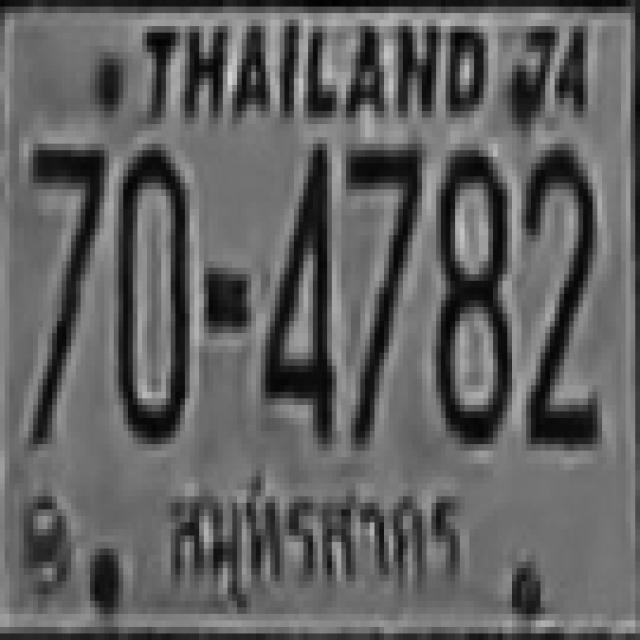0: (114, 144, 185, 438)
2: (522, 140, 592, 408)
4: (261, 137, 332, 438)
7: (29, 140, 104, 428), (344, 140, 419, 428), (29, 140, 104, 369), (344, 137, 419, 359), (29, 137, 104, 327), (344, 137, 419, 320)
8: (432, 144, 508, 438)
SamutSakhon: (151, 450, 476, 618)
